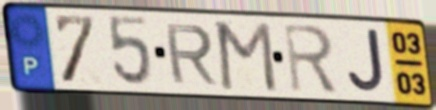5: (105, 13, 155, 91)
7: (53, 13, 100, 86)
J: (345, 27, 386, 96)
M: (214, 20, 280, 95)
R: (281, 21, 341, 95), (162, 22, 220, 87)
